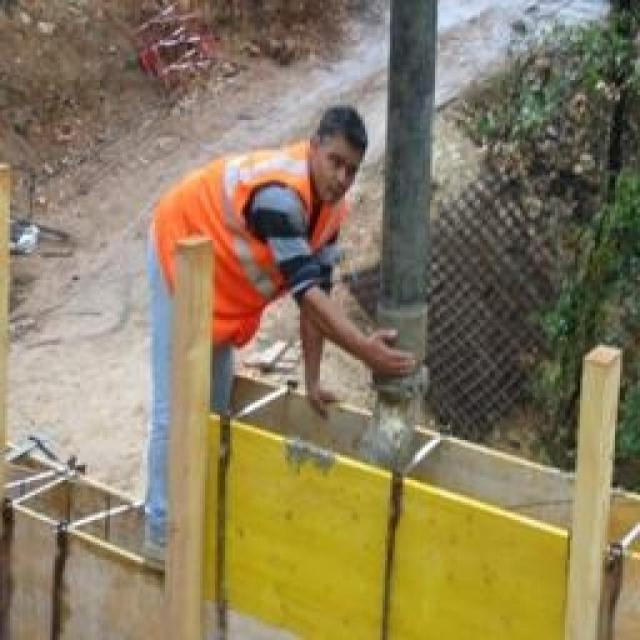Helmet: (305, 77, 375, 207)
Safety Vest: (130, 125, 335, 335)
